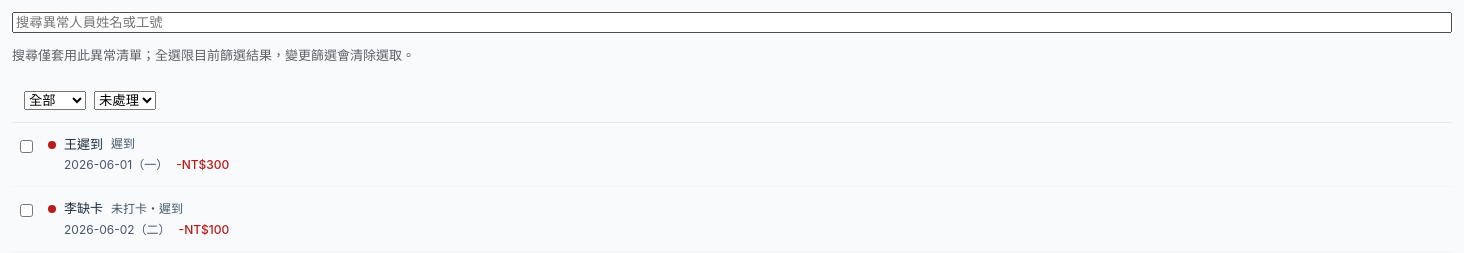
Test: AnomalyQueueColumn › status filter=confirmed → 只顯示已處理卡
Select "已處理" in the 2nd dropdown at (125, 100), box x1=94 y1=90 x2=156 y2=110
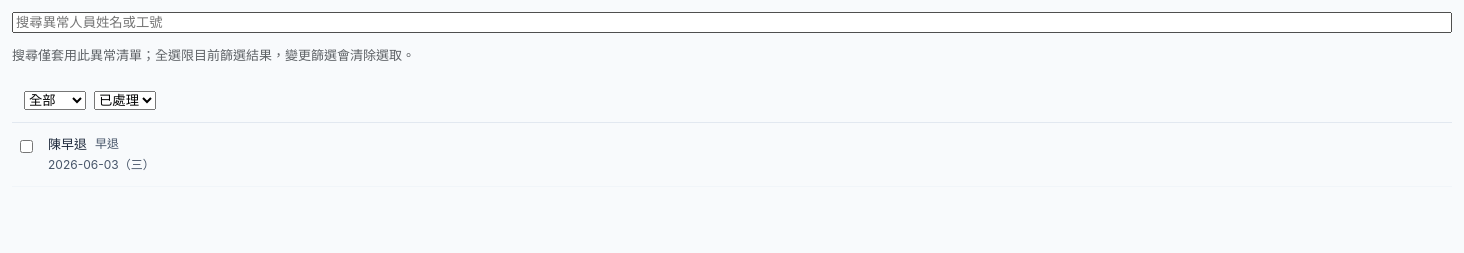
Expected: the number of list items with class "anomaly-item" is 1, x1=12 y1=122 x2=1452 y2=187
Expected: the list item with class "anomaly-item" shows "陳早退", x1=48 y1=136 x2=87 y2=152
